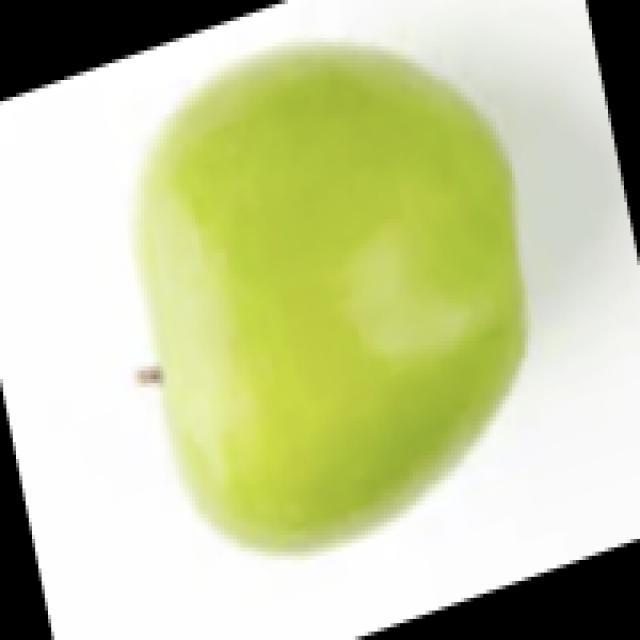Fresh Apple: (145, 42, 510, 523)
